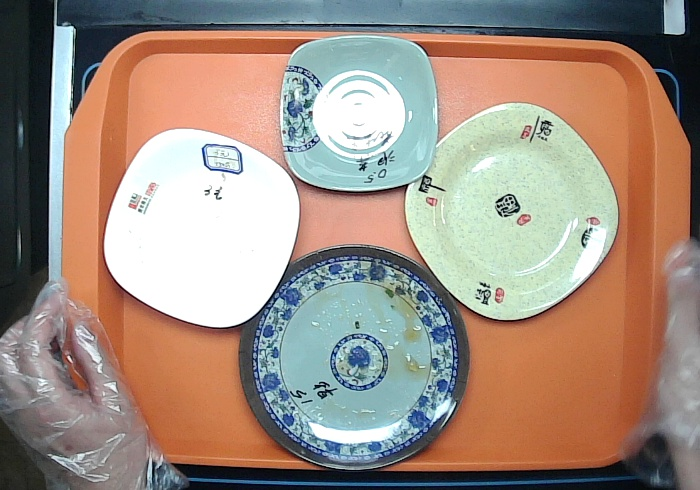NLDX-Bai_Se_Xiao_Fang_Die: (102, 126, 302, 329)
NLDX-Fu_Zi_Fang_Die: (406, 101, 618, 321)
NLDX-Qing_Hua_Xiao_Fang_Die: (281, 34, 437, 193)
NLDX-Qing_Hua_Yuan_Die: (239, 244, 472, 471)
